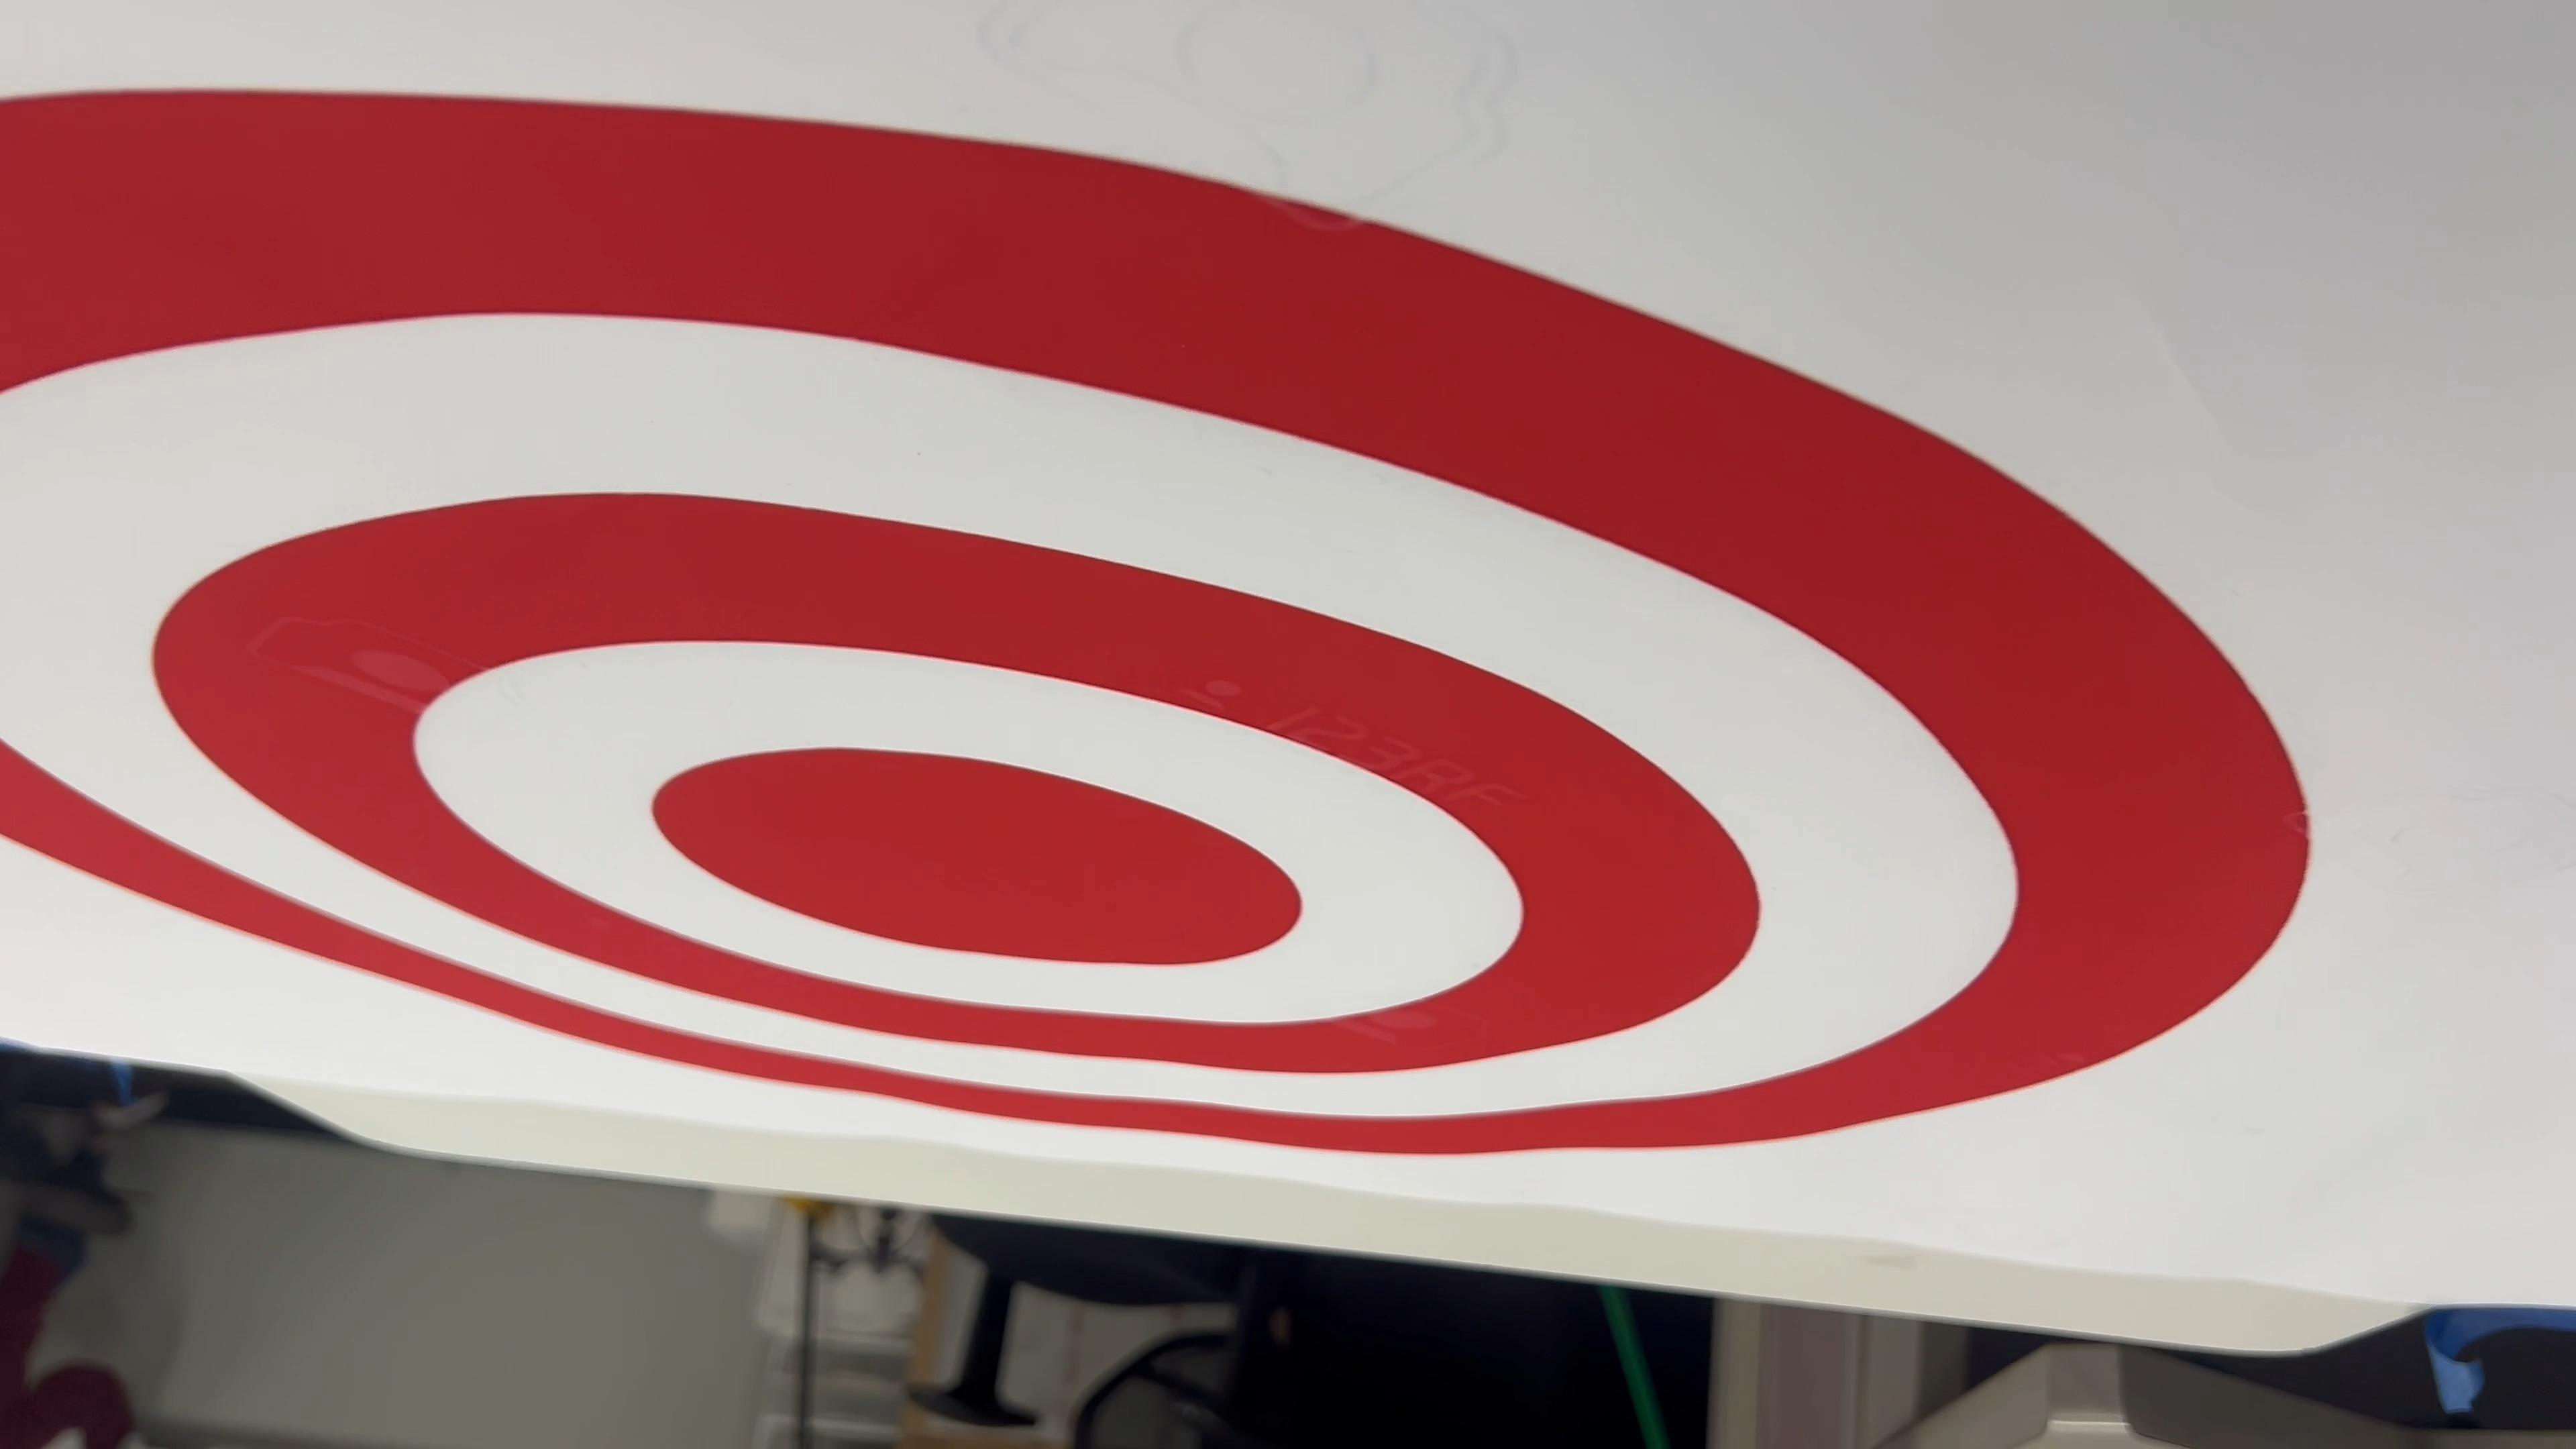target_red: (0, 0, 2335, 1196)
